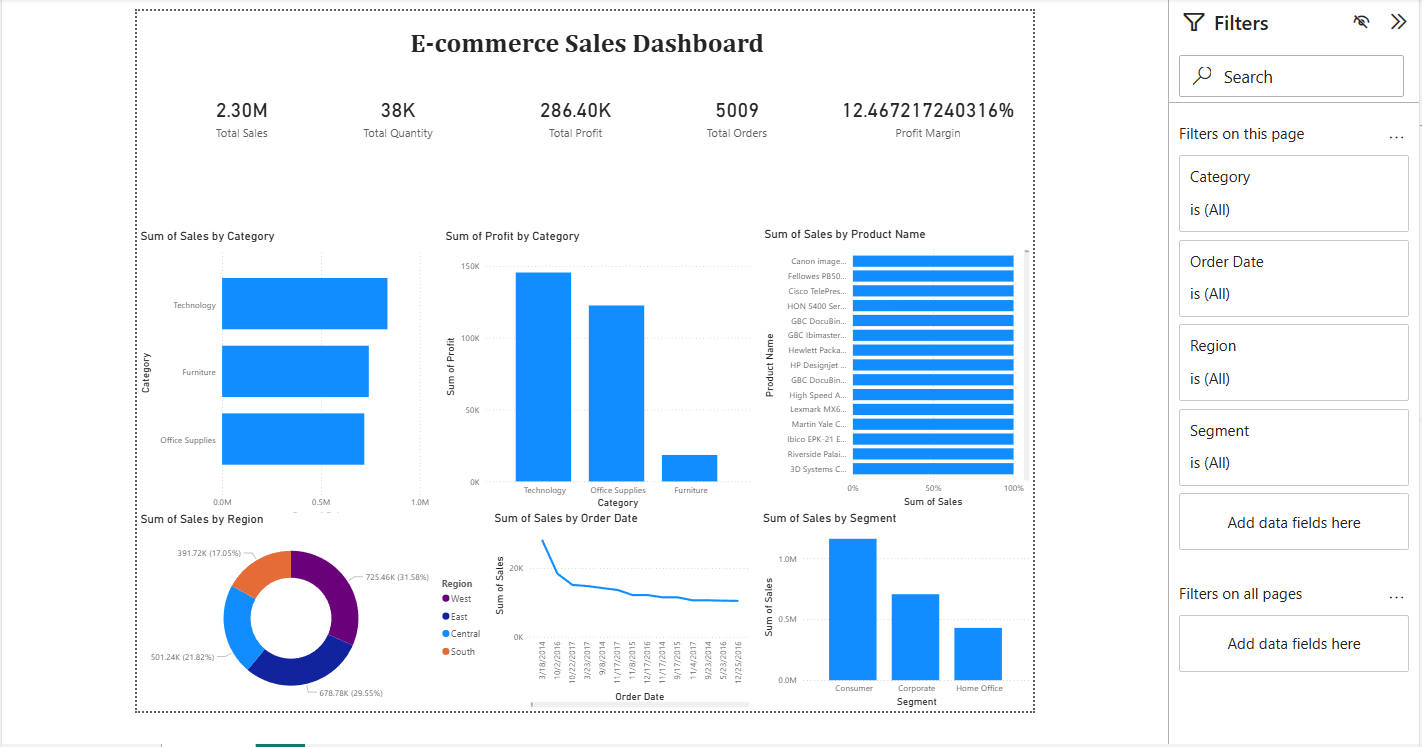

This screenshot's page, from the dashboard's own definition file:
{"tool":"powerbi","page":{"name":"Page 1","canvas":[1280,1000],"ordinal":0},"visuals":[{"type":"clusteredBarChart","fields":{"Y":["Sum(Sample - Superstore.Sales)"],"Category":["Sample - Superstore.Category"]},"box":[0,310.7,423.2,423.2],"z":0},{"type":"columnChart","fields":{"Y":["Sum(Sample - Superstore.Profit)"],"Category":["Sample - Superstore.Category"]},"box":[435.7,310.7,444.6,405.4],"z":1000},{"type":"donutChart","fields":{"Category":["Sample - Superstore.Region"],"Y":["Sum(Sample - Superstore.Sales)"]},"box":[0,716.1,505.4,283.9],"z":2000},{"type":"lineChart","fields":{"Category":["Sample - Superstore.Order Date"],"Y":["Sum(Sample - Superstore.Sales)"]},"box":[505.4,714.3,375,285.7],"z":3000},{"type":"hundredPercentStackedBarChart","fields":{"Category":["Sample - Superstore.Product Name"],"Y":["Sum(Sample - Superstore.Sales)"]},"box":[891.1,308.9,389.3,405.4],"z":4000},{"type":"columnChart","fields":{"Category":["Sample - Superstore.Segment"],"Y":["Sum(Sample - Superstore.Sales)"]},"box":[889.3,714.3,391.1,285.7],"z":5000},{"type":"card","fields":{"Values":["Sample - Superstore.Total Sales"]},"box":[0,0,300,300],"z":6000},{"type":"card","fields":{"Values":["Sample - Superstore.Total Quantity"]},"box":[222.9,0,300,300],"z":7000},{"type":"card","fields":{"Values":["Sample - Superstore.Total Profit"]},"box":[477.1,0,300,300],"z":8000},{"type":"card","fields":{"Values":["Sample - Superstore.Total Orders"]},"box":[707.1,0,300,300],"z":9000},{"type":"card","fields":{"Values":["Sample - Superstore.Profit Margin"]},"box":[980,0,300,300],"z":10000},{"type":"textbox","box":[385.7,17.1,517.1,60],"z":11000}]}

Visuals, with their boxes on the page's 1280x1000 design canvas (x1, y1, x2, y2). These are canvas units, not pixel positions in the 1422x747 screenshot, which may show the page scaled, cropped or inside an application window:
clusteredBarChart - Sum(Sample - Superstore.Sales) x Sample - Superstore.Category: x1=0, y1=311, x2=423, y2=734
columnChart - Sum(Sample - Superstore.Profit) x Sample - Superstore.Category: x1=436, y1=311, x2=880, y2=716
donutChart - Sample - Superstore.Region x Sum(Sample - Superstore.Sales): x1=0, y1=716, x2=505, y2=1000
lineChart - Sample - Superstore.Order Date x Sum(Sample - Superstore.Sales): x1=505, y1=714, x2=880, y2=1000
hundredPercentStackedBarChart - Sample - Superstore.Product Name x Sum(Sample - Superstore.Sales): x1=891, y1=309, x2=1280, y2=714
columnChart - Sample - Superstore.Segment x Sum(Sample - Superstore.Sales): x1=889, y1=714, x2=1280, y2=1000
card - Sample - Superstore.Total Sales: x1=0, y1=0, x2=300, y2=300
card - Sample - Superstore.Total Quantity: x1=223, y1=0, x2=523, y2=300
card - Sample - Superstore.Total Profit: x1=477, y1=0, x2=777, y2=300
card - Sample - Superstore.Total Orders: x1=707, y1=0, x2=1007, y2=300
card - Sample - Superstore.Profit Margin: x1=980, y1=0, x2=1280, y2=300
textbox: x1=386, y1=17, x2=903, y2=77
